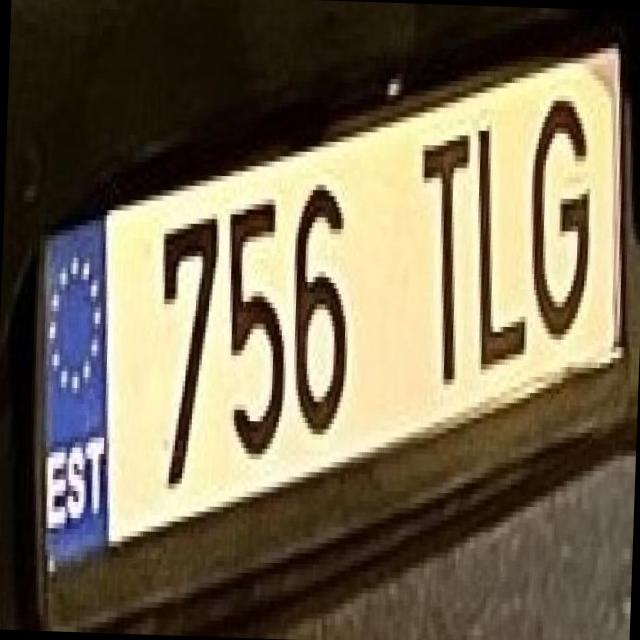5: (208, 175, 295, 460)
6: (276, 162, 358, 430)
7: (138, 189, 223, 495)
G: (516, 77, 604, 341)
L: (456, 102, 534, 370)
T: (406, 107, 482, 385)
